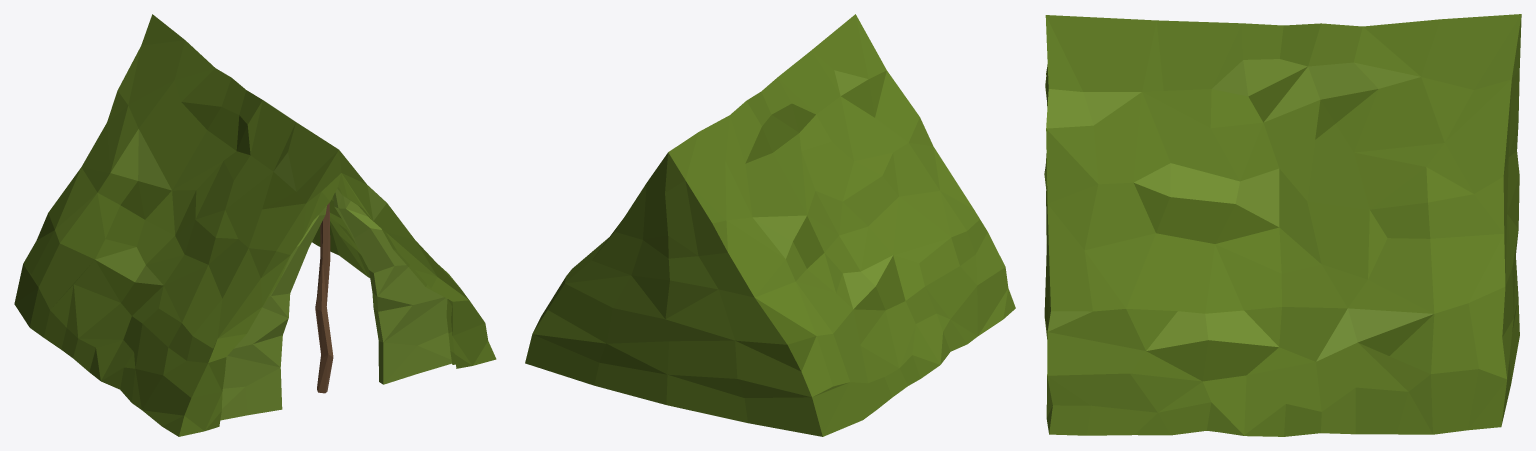
The model's file is mesh_tent.fbx.
The picture shows the model from 3 angles, left to right: view 1: azimuth 30°, elevation 25°; view 2: azimuth 150°, elevation 25°; view 3: azimuth 270°, elevation 25°; orthographic projection. The views are drawn at different scales.
Parts seen in each view (by area): view 1: mesh_tent; view 2: mesh_tent; view 3: mesh_tent.
Boxes of the visible parts, x1,y1,x2,y2 form: mesh_tent: [14, 14, 496, 436]; mesh_tent: [525, 14, 1015, 436]; mesh_tent: [1044, 14, 1521, 436].
Bounding box in the file's own units: 2.03 × 1.54 × 2.03.
